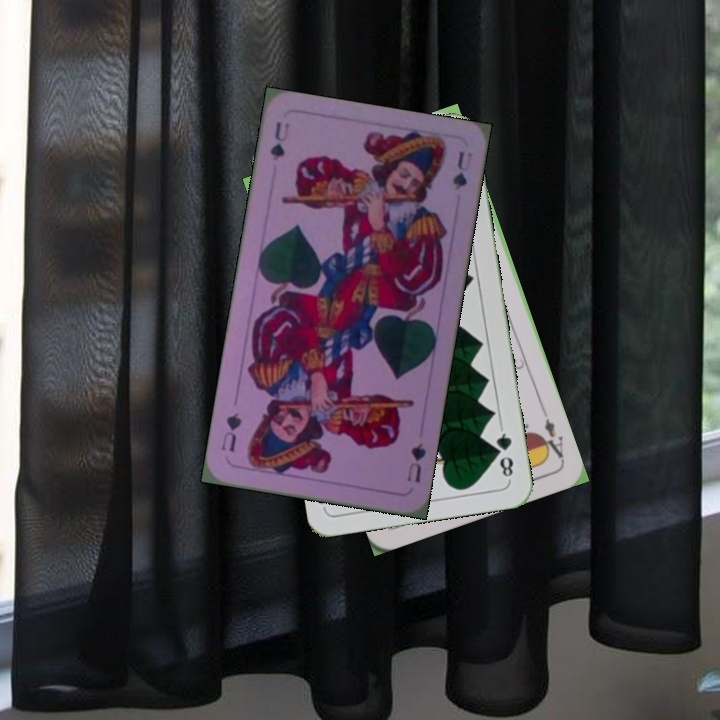EA: (536, 406, 567, 463)
G8: (491, 424, 516, 480)
GU: (403, 439, 429, 486), (266, 118, 293, 163)
